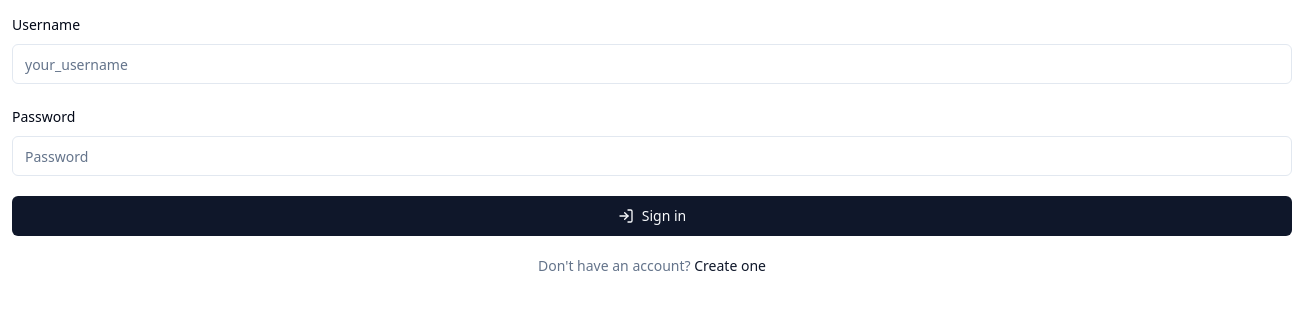
Test: LoginForm › shows validation error when password is too short
This screenshot has width=1304, height=312.
Step 1. Type "testuser" into the field labelled "Username" → (652, 64), box x1=12 y1=44 x2=1292 y2=84
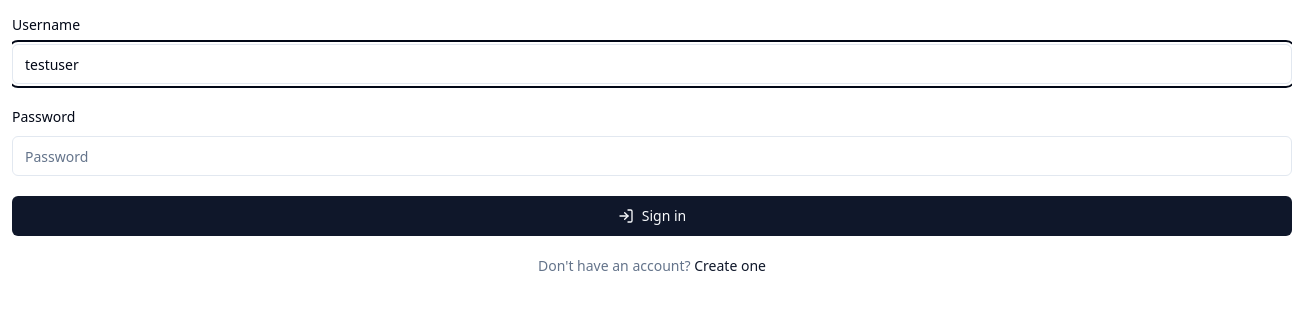
Step 2. Type "short" into the password field labelled "Password" → (652, 156), box x1=12 y1=136 x2=1292 y2=176
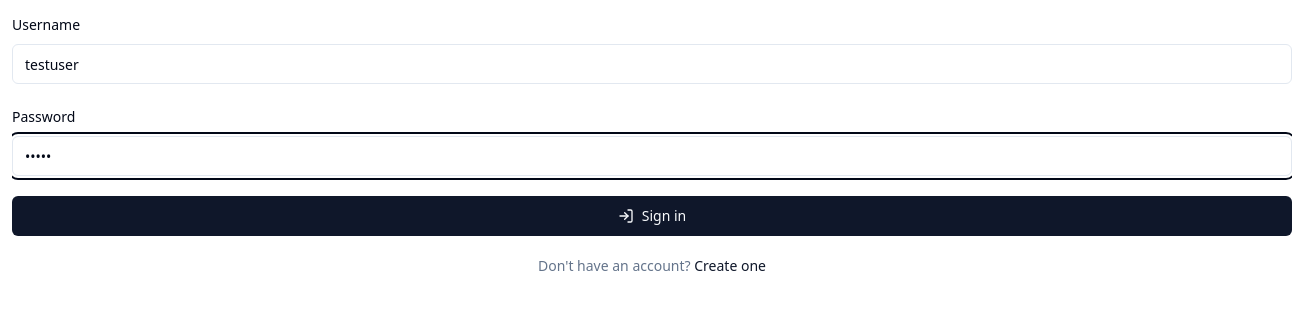
Step 3. Click the button "Sign in" → (652, 216), box x1=12 y1=196 x2=1292 y2=236
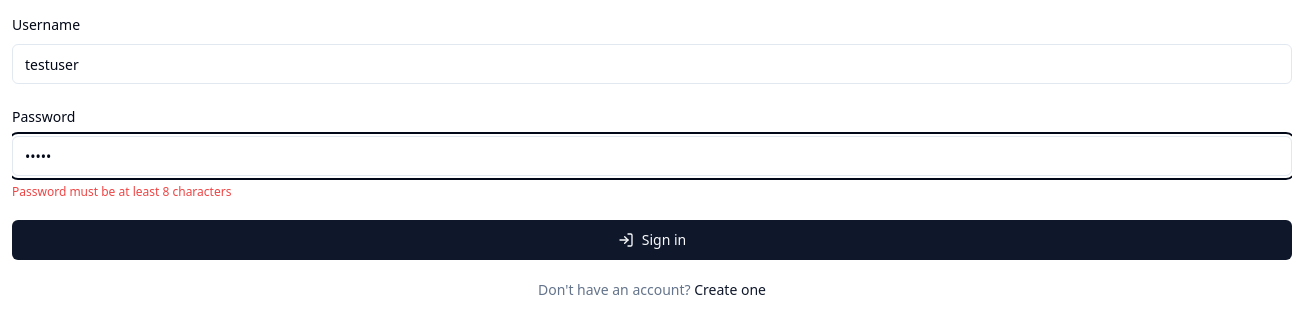
Now the text "Password must be at least 8 characters" is shown, box x1=12 y1=183 x2=231 y2=200
